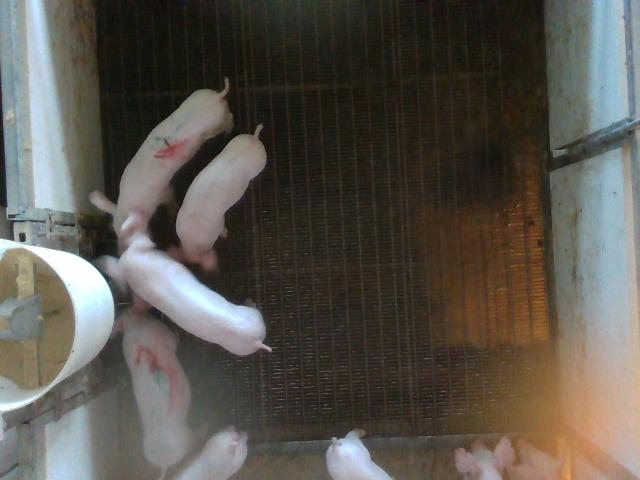pig-3: (112, 306, 192, 478)
pig-4: (91, 80, 232, 251)
